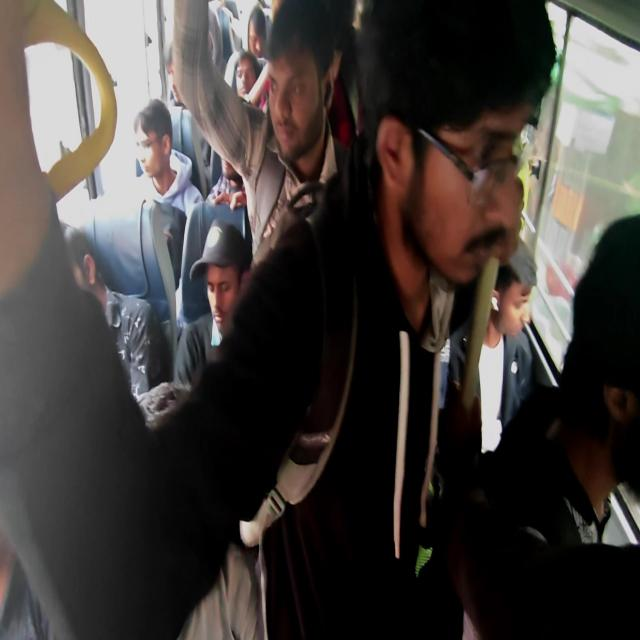person: (164, 1, 558, 637), (0, 0, 339, 638), (450, 212, 639, 638), (171, 0, 353, 272), (80, 97, 204, 323), (446, 236, 538, 454), (173, 217, 253, 391), (133, 97, 205, 217)
